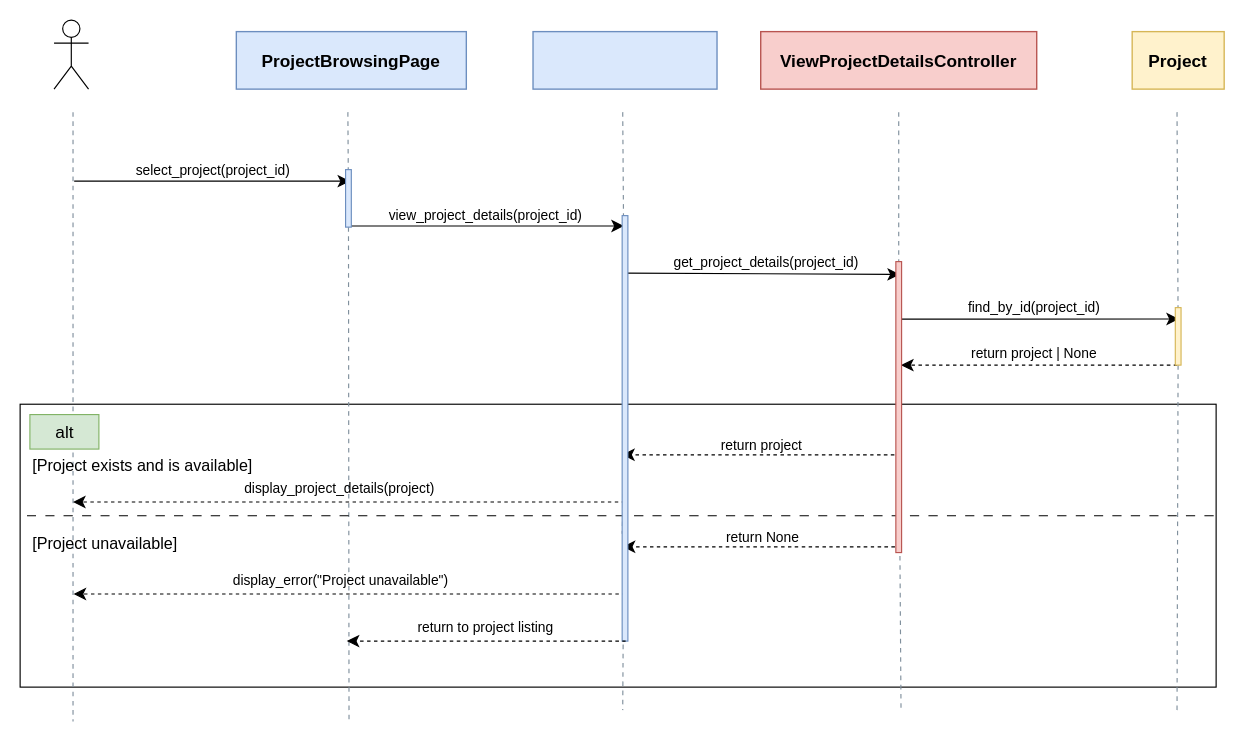
Image size: 1245x743. Some labels were removed from this diagram. The shapes that lost their labels are listed below. From the top down, each one's centre as x and y in pixels, then its label:
At [71,54]: "Customer".
At [624,59]: "ProjectDetailsPage".
